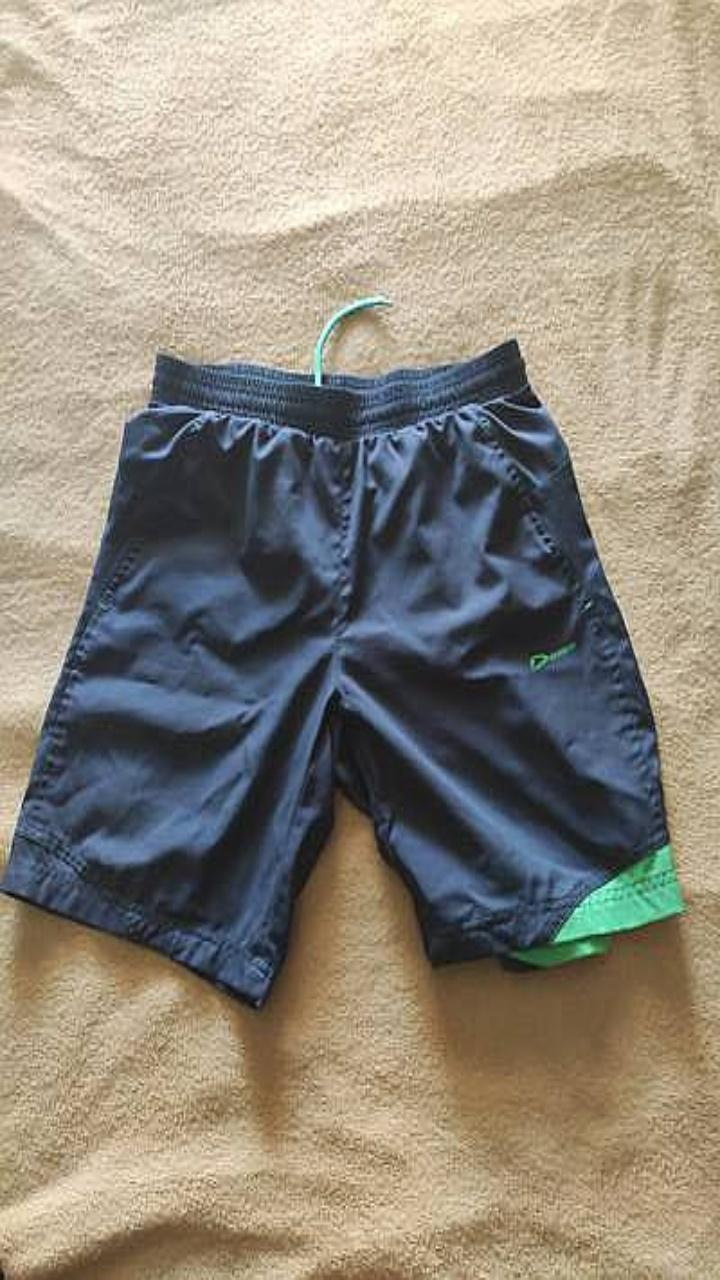Shorts: (0, 339, 683, 1007)
